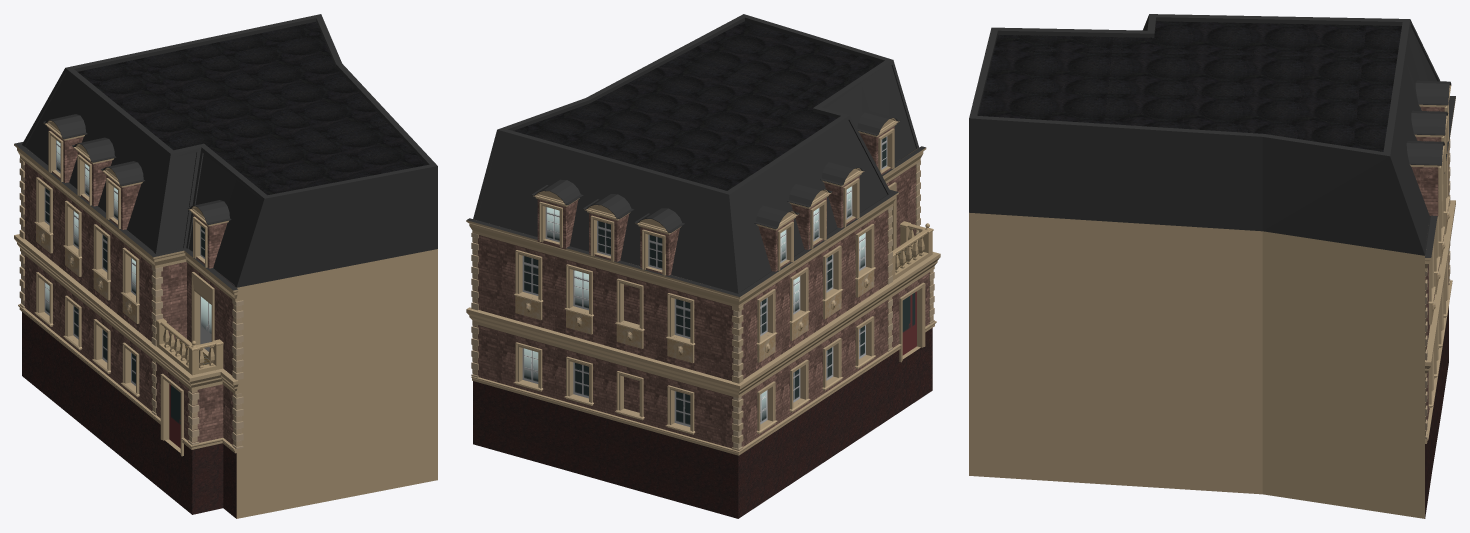
3 views of the same model, side by side, from view 1: azimuth 30°, elevation 25°; view 2: azimuth 150°, elevation 25°; view 3: azimuth 270°, elevation 25° (orthographic). The views are drawn at different scales.
Visible parts, largest first — view 1: 01040-50@114562; view 2: 01040-50@114562; view 3: 01040-50@114562.
Part boxes in pixels (box(x1,y1,x2,y2)): 01040-50@114562: box(14, 14, 437, 518); 01040-50@114562: box(466, 14, 940, 518); 01040-50@114562: box(969, 14, 1455, 518).
Size of the model in its own units: 13.88 by 13.59 by 16.77.
1 material, 1 textured.
